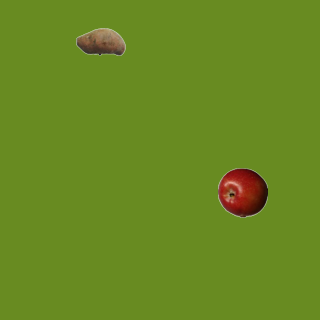Apple Braeburn: (217, 167, 267, 217)
Potato Sweet: (75, 16, 125, 66)
